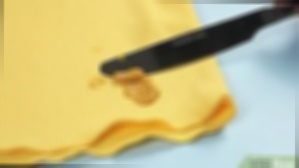mustard: (115, 67, 153, 104), (91, 74, 105, 91)
